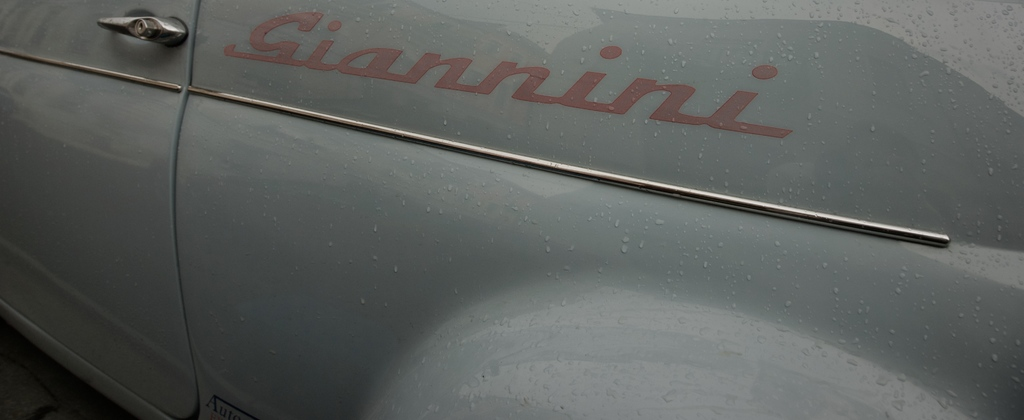Car: (0, 2, 1024, 412)
